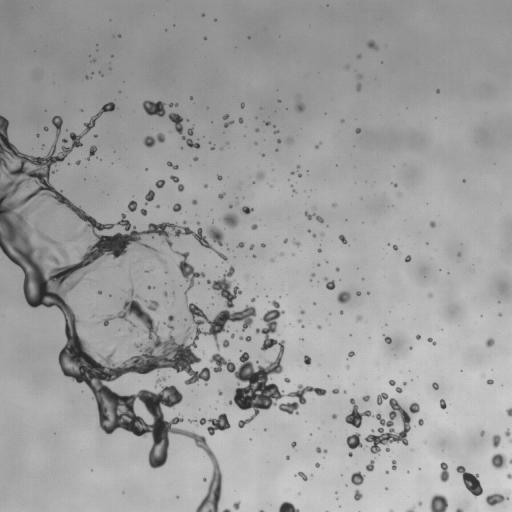droplet: (345, 392, 419, 454), (197, 413, 230, 435), (142, 100, 165, 116), (429, 493, 448, 511), (207, 225, 223, 246), (491, 453, 511, 469), (346, 432, 363, 449), (222, 212, 238, 227), (351, 471, 364, 485), (337, 291, 350, 303), (223, 114, 233, 127), (145, 190, 154, 204), (492, 434, 501, 448), (324, 278, 335, 289), (367, 40, 378, 50), (295, 100, 304, 111), (128, 200, 137, 211), (365, 460, 374, 471), (155, 179, 165, 188), (241, 206, 252, 214), (354, 489, 362, 500), (338, 235, 347, 244), (485, 338, 494, 347), (172, 203, 181, 211), (304, 355, 311, 365), (256, 171, 264, 179), (440, 399, 446, 409), (233, 501, 240, 509), (384, 336, 391, 343), (395, 386, 402, 393), (187, 127, 193, 135), (223, 339, 229, 347), (140, 209, 147, 215), (293, 240, 300, 246), (405, 255, 411, 262), (355, 315, 362, 321), (348, 351, 354, 358), (432, 382, 438, 389), (332, 388, 339, 394), (362, 395, 369, 401), (356, 83, 361, 91), (218, 192, 224, 198), (429, 221, 435, 227), (237, 242, 244, 247), (163, 290, 168, 297), (291, 441, 296, 448), (238, 117, 243, 123), (251, 224, 257, 229), (284, 377, 290, 382), (487, 379, 493, 384), (389, 380, 395, 385), (331, 414, 337, 419), (418, 419, 423, 425), (43, 126, 48, 131), (355, 128, 360, 133), (315, 462, 320, 467), (264, 121, 270, 125), (217, 175, 222, 179), (249, 244, 253, 249), (393, 245, 397, 250), (171, 291, 175, 296), (251, 297, 255, 302), (416, 334, 420, 339), (348, 452, 352, 457), (507, 473, 511, 478), (357, 54, 361, 58), (277, 139, 281, 143), (287, 138, 291, 142), (76, 160, 80, 164), (192, 200, 196, 204), (261, 243, 265, 247), (317, 248, 321, 252), (356, 291, 360, 295), (428, 293, 432, 297), (300, 310, 304, 314), (317, 325, 321, 329), (218, 391, 222, 395), (480, 431, 484, 435), (418, 501, 422, 505), (211, 145, 214, 150), (188, 419, 193, 422), (358, 74, 361, 78), (241, 103, 244, 107), (62, 139, 66, 142), (193, 157, 197, 160), (296, 165, 299, 169), (393, 183, 397, 186), (332, 203, 336, 206), (284, 239, 287, 243), (98, 290, 101, 294), (298, 319, 301, 323), (231, 334, 234, 338), (286, 455, 289, 459), (385, 470, 389, 473), (255, 128, 258, 131), (94, 134, 97, 137), (293, 189, 296, 192), (321, 232, 324, 235), (312, 234, 315, 237), (271, 259, 274, 262), (403, 382, 406, 385), (335, 268, 339, 270), (389, 509, 393, 511), (118, 34, 120, 37), (346, 65, 348, 68), (85, 76, 88, 78), (436, 90, 439, 92), (341, 119, 343, 122), (274, 131, 277, 133), (36, 134, 39, 136), (298, 174, 301, 176), (156, 205, 159, 207), (229, 205, 232, 207), (457, 253, 460, 255), (252, 255, 255, 257), (340, 311, 343, 313), (499, 313, 501, 316), (346, 366, 349, 368), (203, 478, 206, 480), (202, 14, 204, 16), (278, 100, 280, 102), (255, 142, 257, 144), (262, 154, 264, 156), (291, 172, 293, 174), (463, 179, 465, 181), (197, 222, 199, 224), (308, 230, 310, 232), (118, 263, 120, 265), (367, 292, 369, 294), (300, 338, 302, 340)
ligament: (0, 103, 326, 511), (36, 229, 67, 258), (456, 466, 482, 497), (168, 113, 183, 135), (485, 493, 509, 506), (144, 133, 164, 147), (170, 175, 184, 191), (278, 501, 299, 511), (304, 211, 323, 222), (182, 136, 199, 148), (440, 462, 449, 482), (86, 146, 97, 160), (504, 429, 511, 443), (155, 377, 165, 386), (167, 161, 178, 169), (296, 472, 307, 480), (316, 447, 327, 453), (239, 336, 251, 341), (428, 338, 436, 345), (506, 407, 511, 417), (405, 506, 415, 511), (392, 460, 396, 470), (146, 267, 153, 272), (169, 103, 177, 107), (316, 142, 321, 147), (310, 273, 314, 279), (222, 508, 230, 511), (455, 508, 463, 511), (147, 286, 154, 289), (259, 510, 264, 511)
